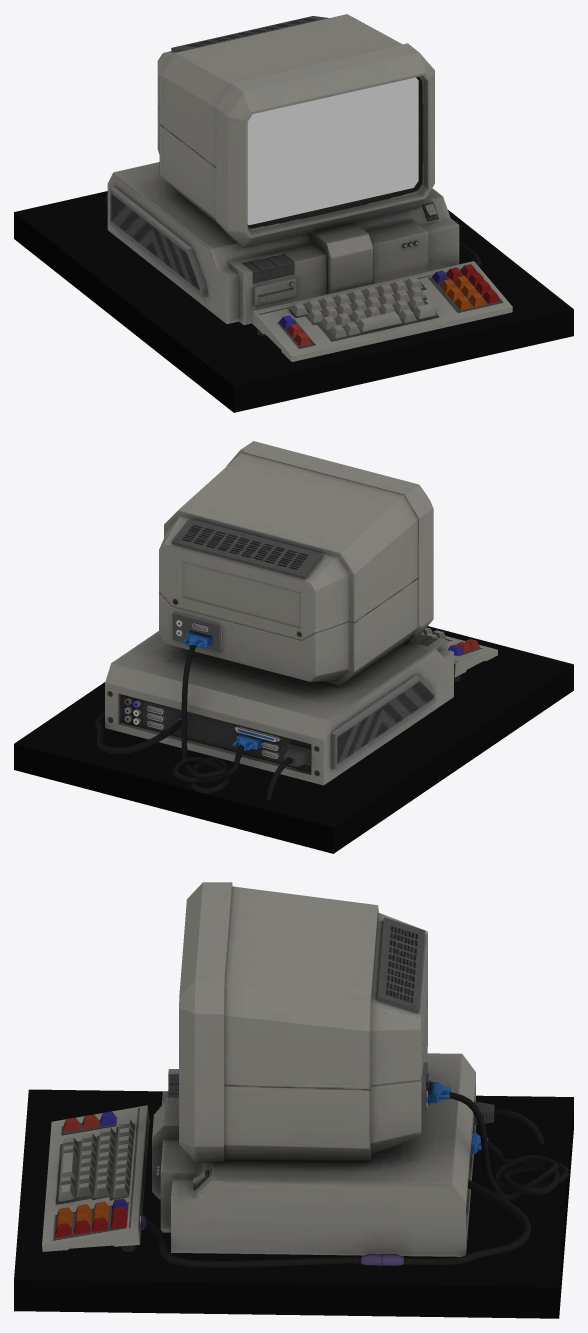
File: computer.glb
3 renders of one model, top to bottom at view 1: azimuth 30°, elevation 25°; view 2: azimuth 150°, elevation 25°; view 3: azimuth 270°, elevation 25°, orthographic. The views are drawn at different scales.
Visible parts, largest first — view 1: Monitor-B-_computer_0, monitor-screen; view 2: Monitor-B-_computer_0; view 3: Monitor-B-_computer_0.
Boxes of the visible parts, x1,y1,x2,y2 form: Monitor-B-_computer_0: (14,14,573,412); monitor-screen: (247,77,418,225); Monitor-B-_computer_0: (14,441,573,853); Monitor-B-_computer_0: (14,882,573,1318).
Bounding box in the file's own units: 2.57 × 1.8 × 3.07.
8 materials, 1 textured.
